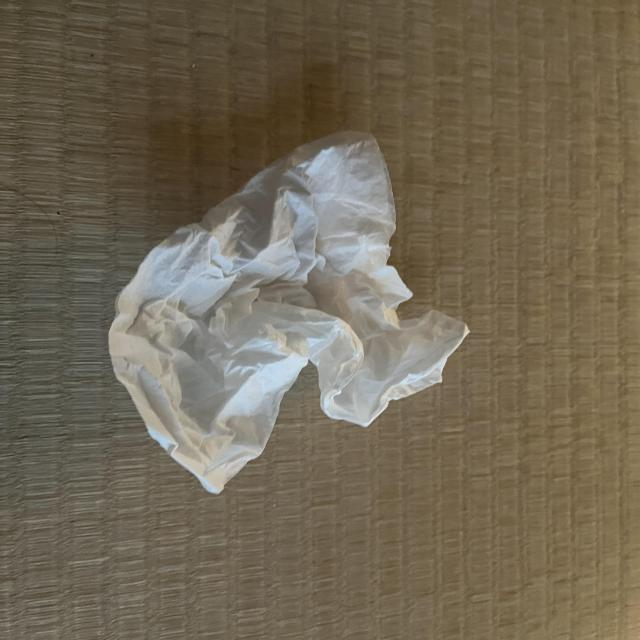Paper: (100, 123, 460, 490)
